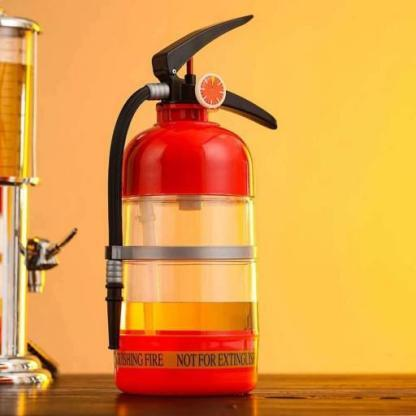Fire Extinguisher: (92, 8, 283, 409)
